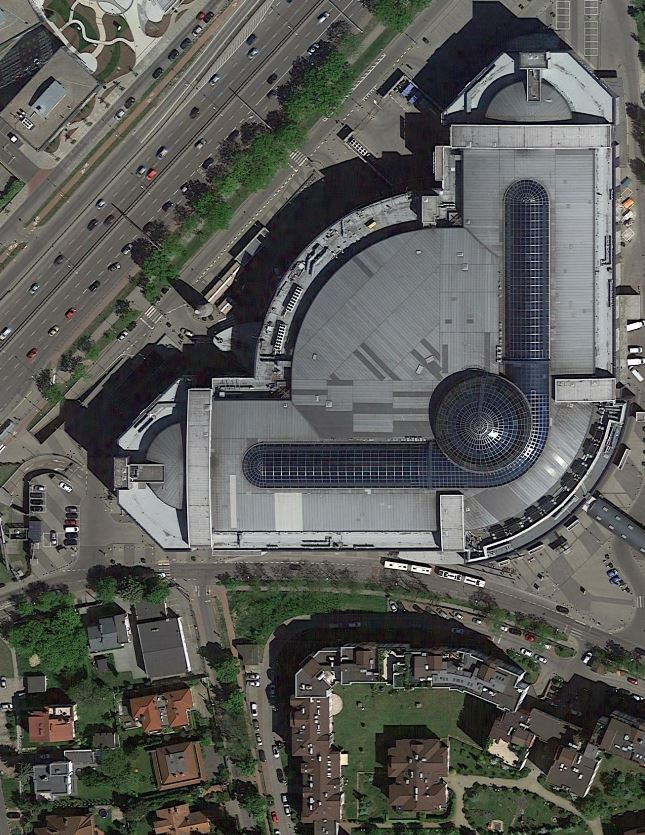block of flats: (292, 649, 543, 835), (2, 41, 102, 156), (382, 726, 457, 816), (127, 597, 203, 685), (544, 746, 611, 799)
family house: (24, 745, 100, 801), (148, 738, 211, 800), (26, 700, 83, 753), (79, 605, 137, 655), (30, 808, 107, 835), (148, 804, 212, 835)
shopping_center: (99, 39, 630, 577)
